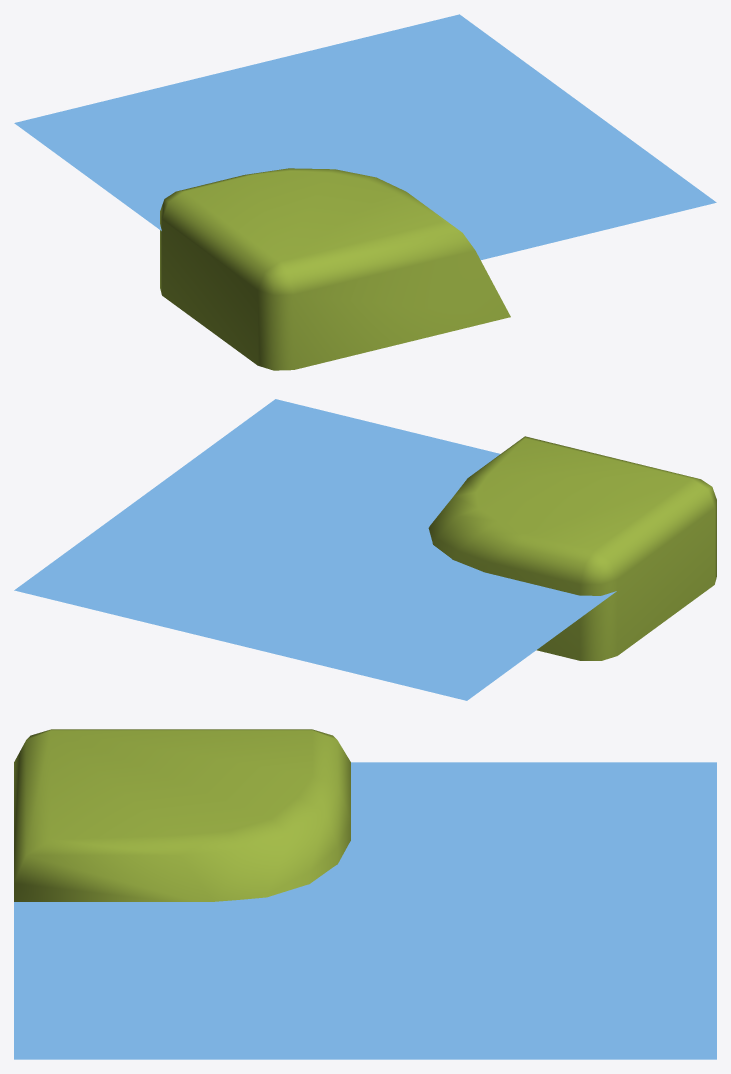
File: Bloco_Rio_Quina.fbx
The picture shows the model from 3 angles, top to bottom: view 1: azimuth 30°, elevation 25°; view 2: azimuth 150°, elevation 25°; view 3: azimuth 270°, elevation 25°; orthographic projection. The views are drawn at different scales.
Visible parts, largest first — view 1: Bloco_Rio_Quina; view 2: Bloco_Rio_Quina; view 3: Bloco_Rio_Quina.
Boxes of the visible parts, x1,y1,x2,y2 form: Bloco_Rio_Quina: (14, 14, 716, 370); Bloco_Rio_Quina: (14, 399, 716, 700); Bloco_Rio_Quina: (14, 729, 716, 1059).
Size of the model in its own units: 240 by 50.72 by 240.
